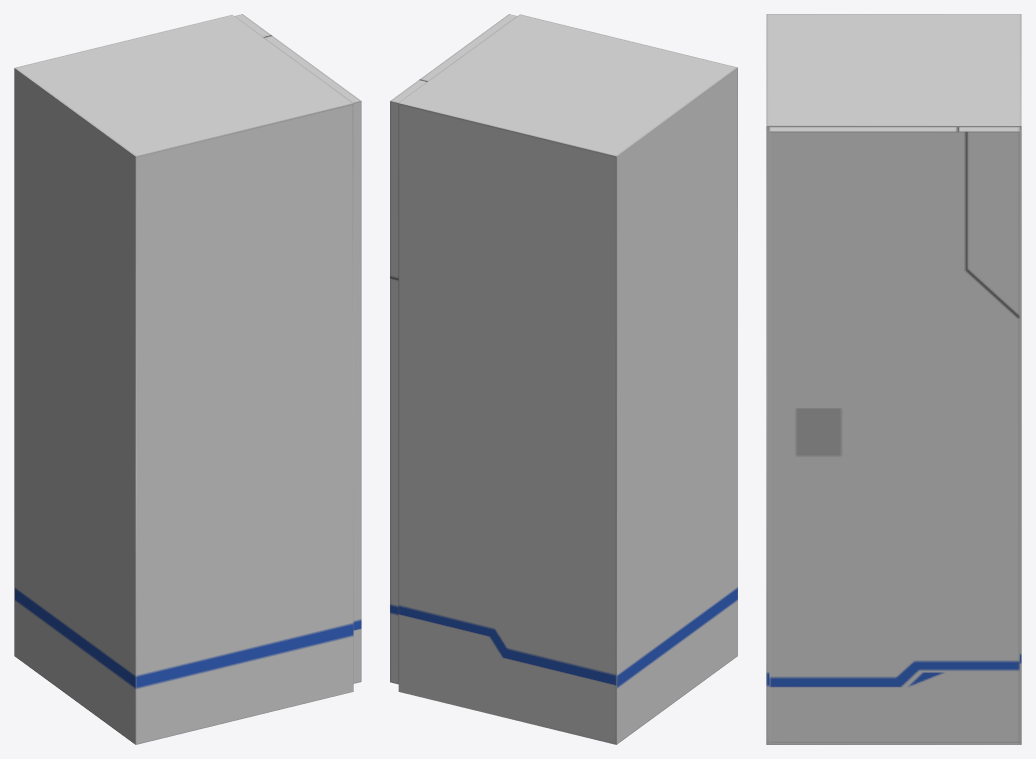
The model's file is Locker.fbx.
The picture shows the model from 3 angles, left to right: view 1: azimuth 30°, elevation 25°; view 2: azimuth 150°, elevation 25°; view 3: azimuth 270°, elevation 25°; orthographic projection. The views are drawn at different scales.
Visible parts, largest first — view 1: Locker, door; view 2: Locker, door; view 3: door, Locker.
Part boxes in pixels (<box>): Locker: <box>14,15,353,744</box>; door: <box>234,14,361,683</box>; Locker: <box>398,14,737,744</box>; door: <box>390,14,516,684</box>; door: <box>769,127,1019,742</box>; Locker: <box>766,14,1021,744</box>.
Bounding box in the file's own units: 0.8242 × 2.04 × 0.7622.
